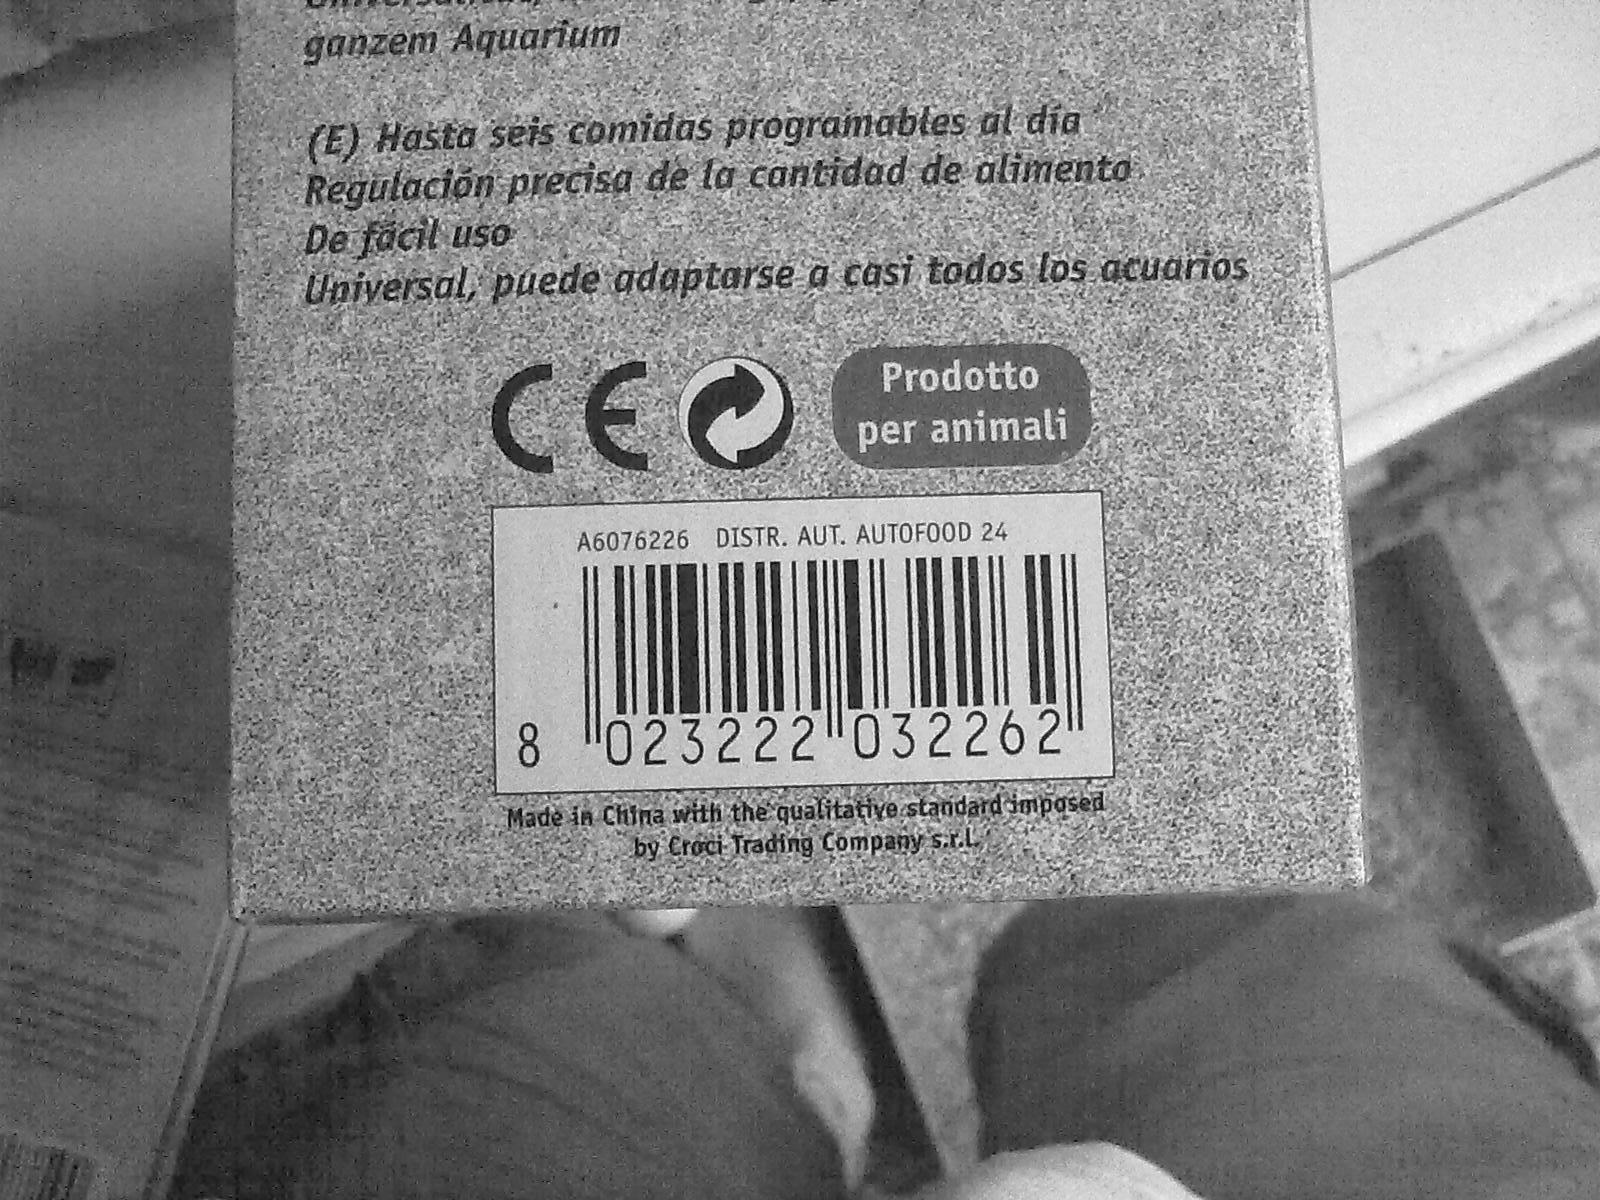Barcode: (508, 521, 1115, 776)
